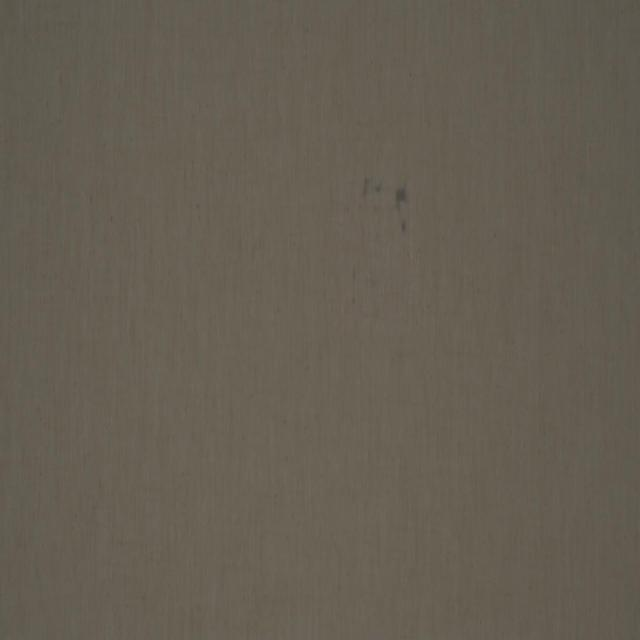dirty: (395, 182, 408, 213), (362, 178, 368, 198), (374, 182, 382, 194), (402, 223, 406, 232)
